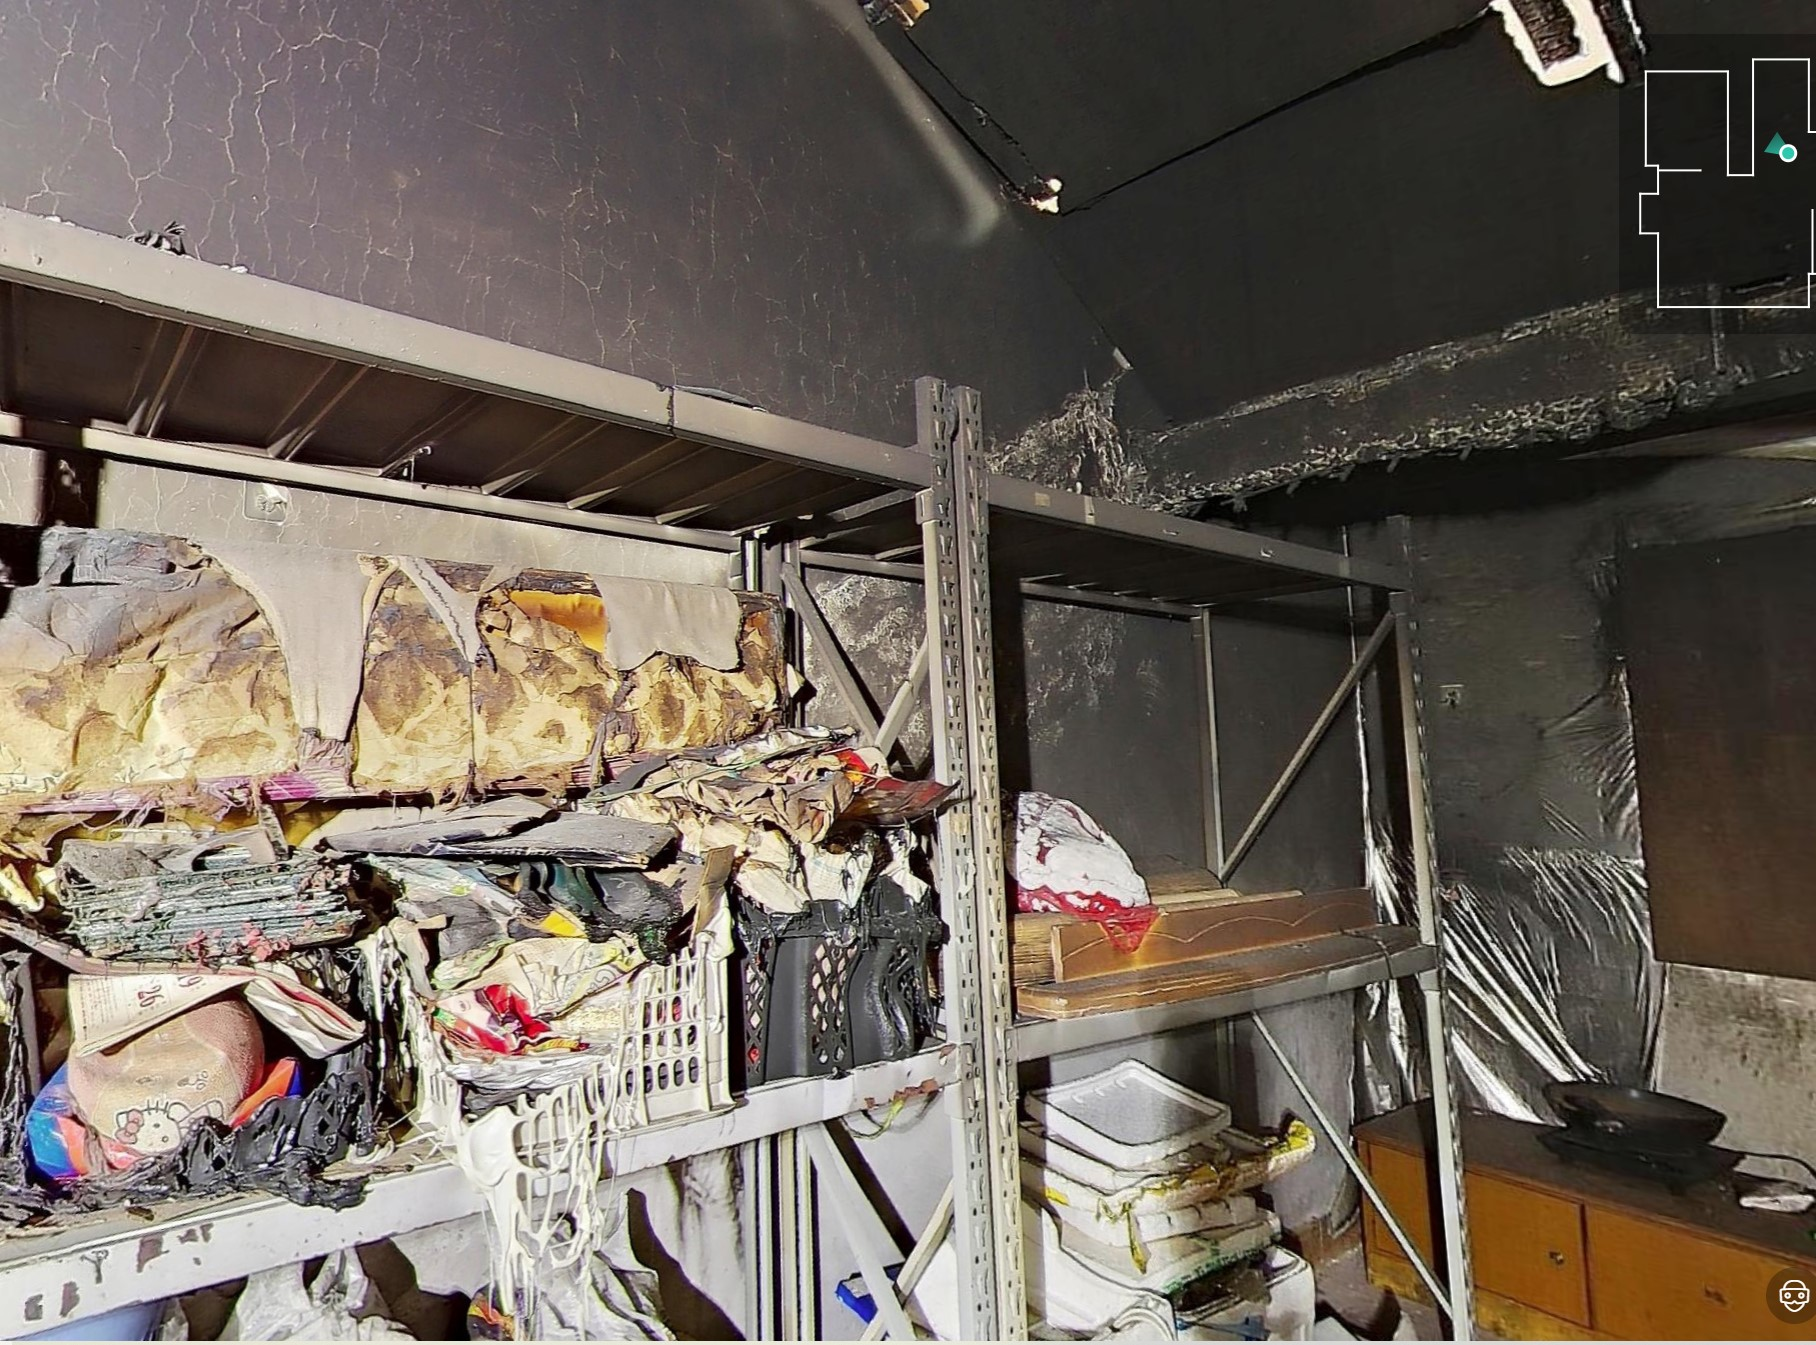Damage_level1: (948, 14, 1594, 365), (1056, 644, 1342, 873)
Damage_level2: (1663, 973, 1812, 1133)
Damage_level3: (548, 124, 873, 403), (311, 52, 521, 335), (42, 10, 289, 247)
